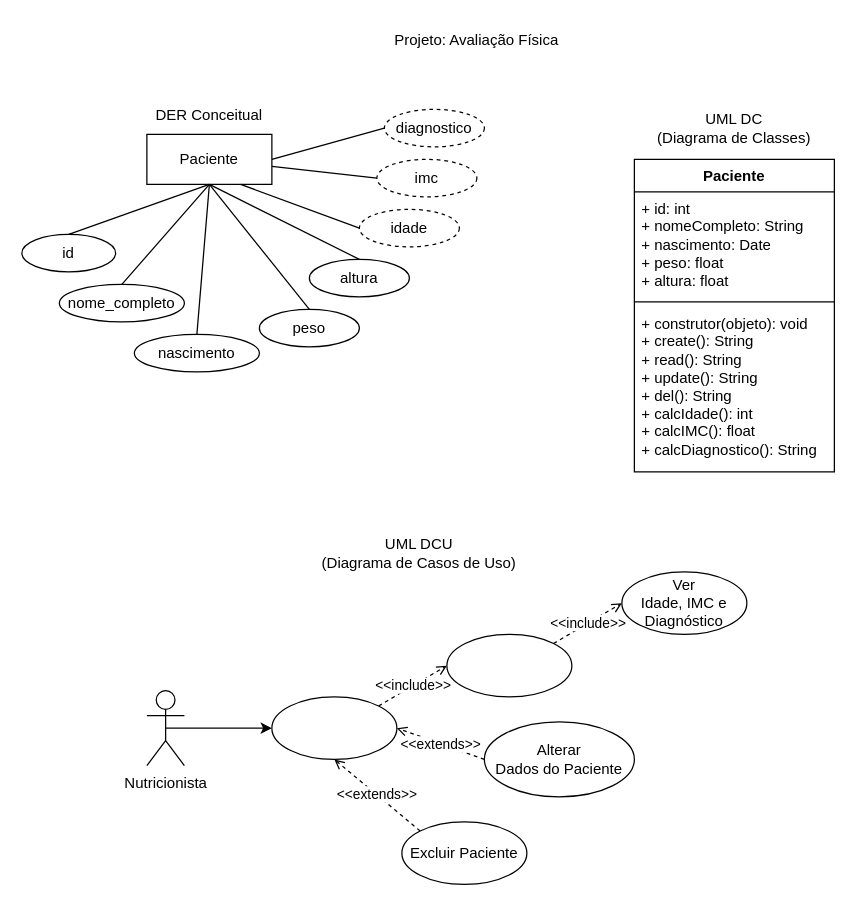
Some shapes in this 856 by 906 pixel diagram are drawn without their labels. Here are the shapes that lost their labels. From the top down, the box of each, then its label:
(446, 633, 572, 697): Listar Todos
(271, 696, 397, 759): Cadastrar paciente
